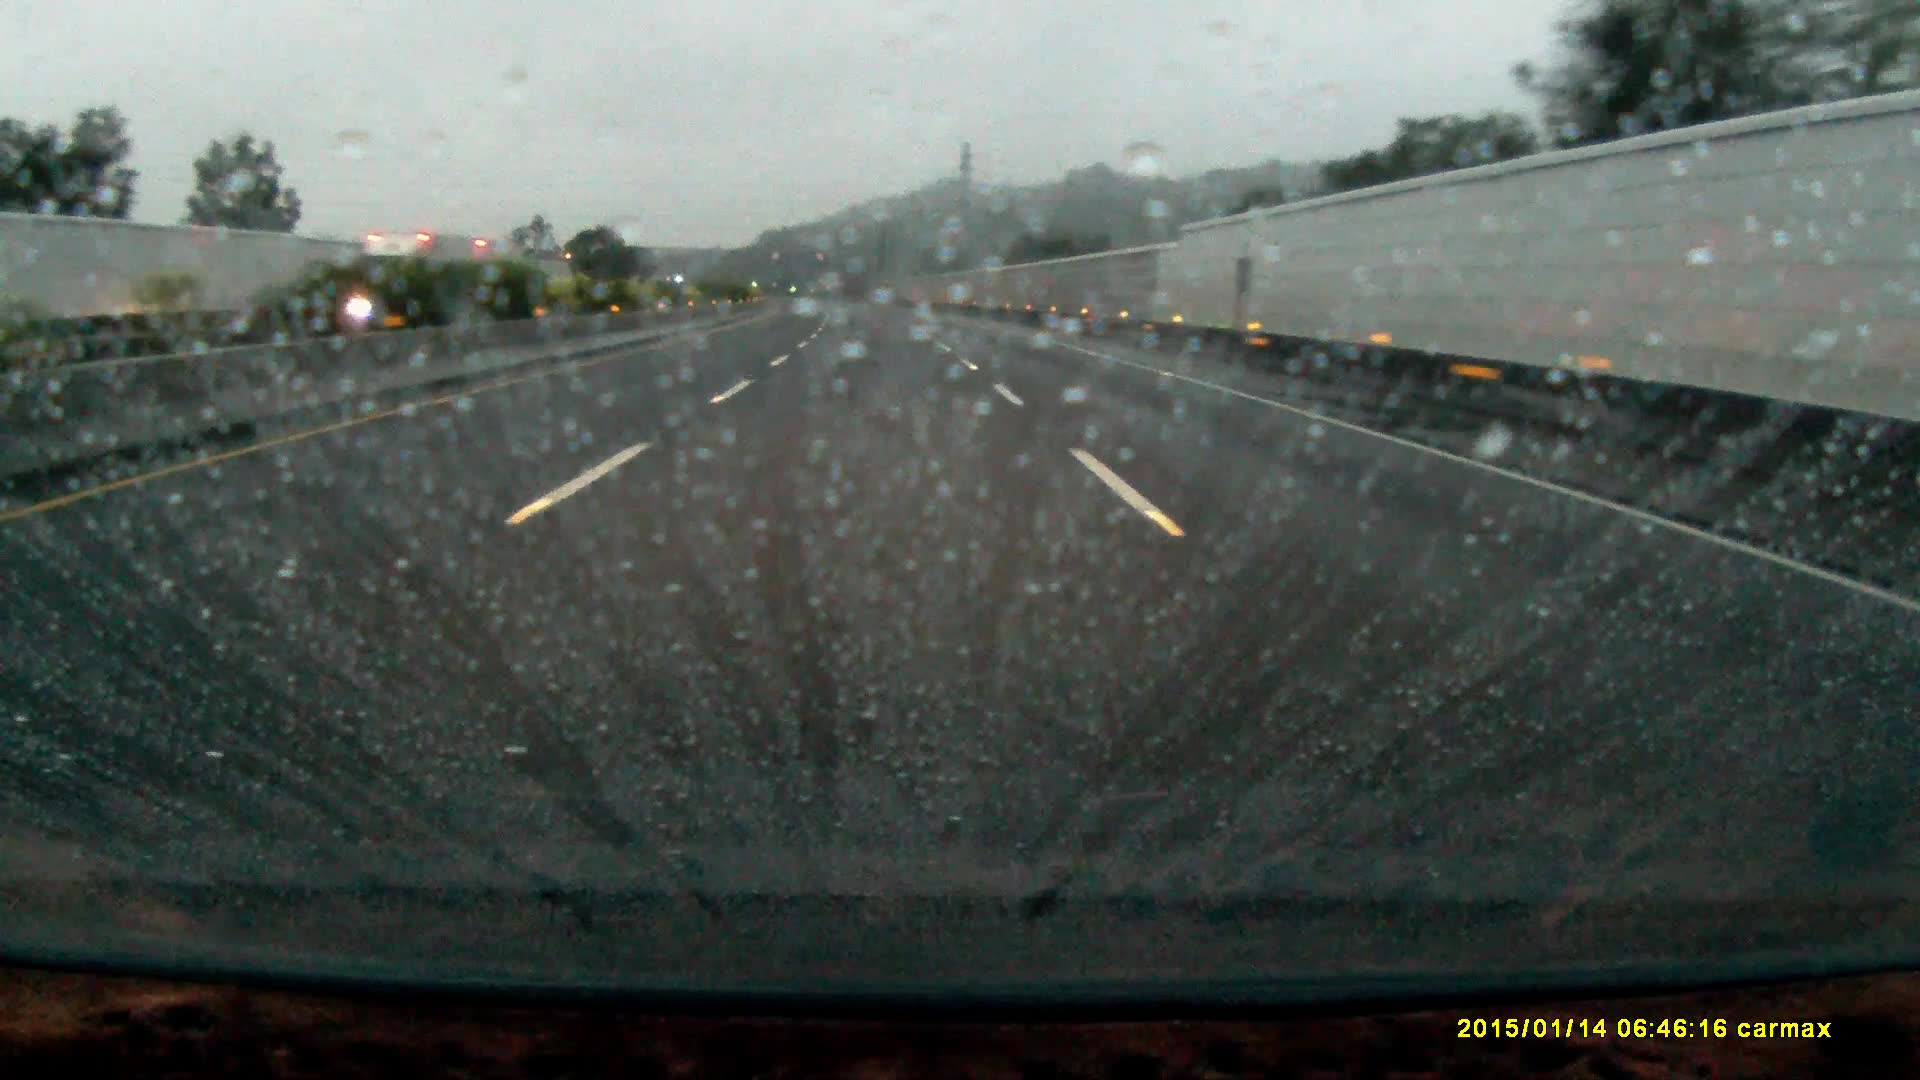vehicle: (348, 232, 516, 323)
